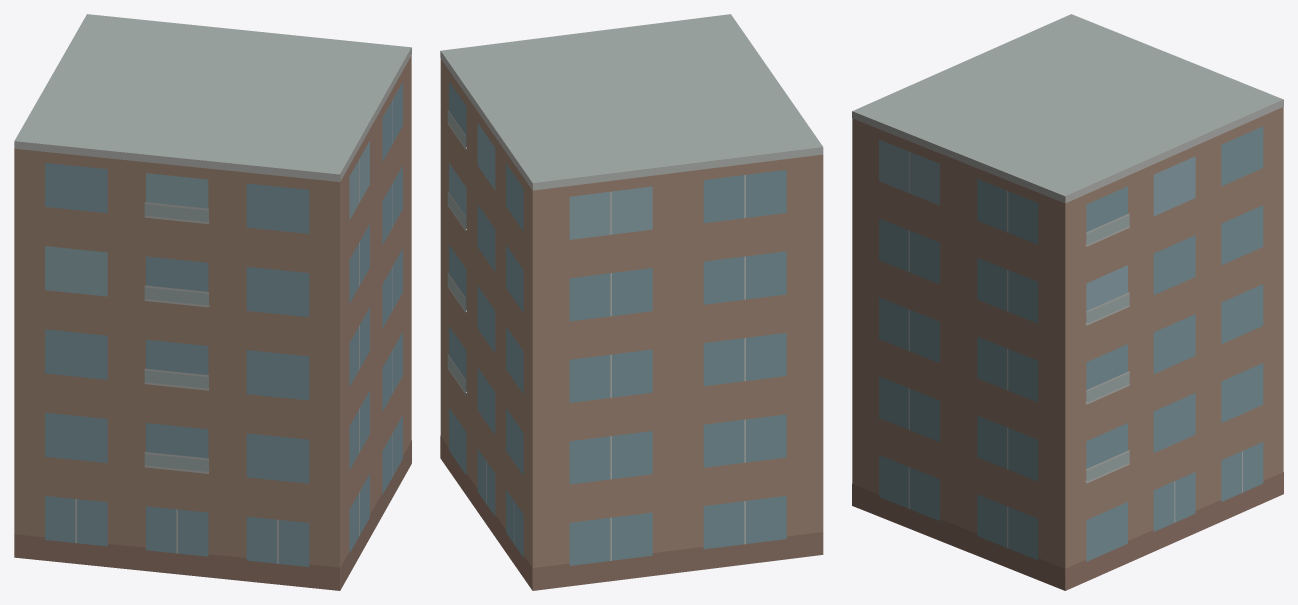
Rendered from survey-upis-32929153.glb.
3 renders of one model, left to right at view 1: azimuth 30°, elevation 25°; view 2: azimuth 150°, elevation 25°; view 3: azimuth 270°, elevation 25°, orthographic. The views are drawn at different scales.
Parts seen in each view (by area): view 1: survey-upis-32929153.tmp; view 2: survey-upis-32929153.tmp; view 3: survey-upis-32929153.tmp.
Boxes of the visible parts, box(x1,y1,x2,y2) form: survey-upis-32929153.tmp: box(14, 14, 411, 590); survey-upis-32929153.tmp: box(440, 14, 823, 590); survey-upis-32929153.tmp: box(852, 14, 1283, 590).
Size of the model in its own units: 13.39 by 13.5 by 13.39.
